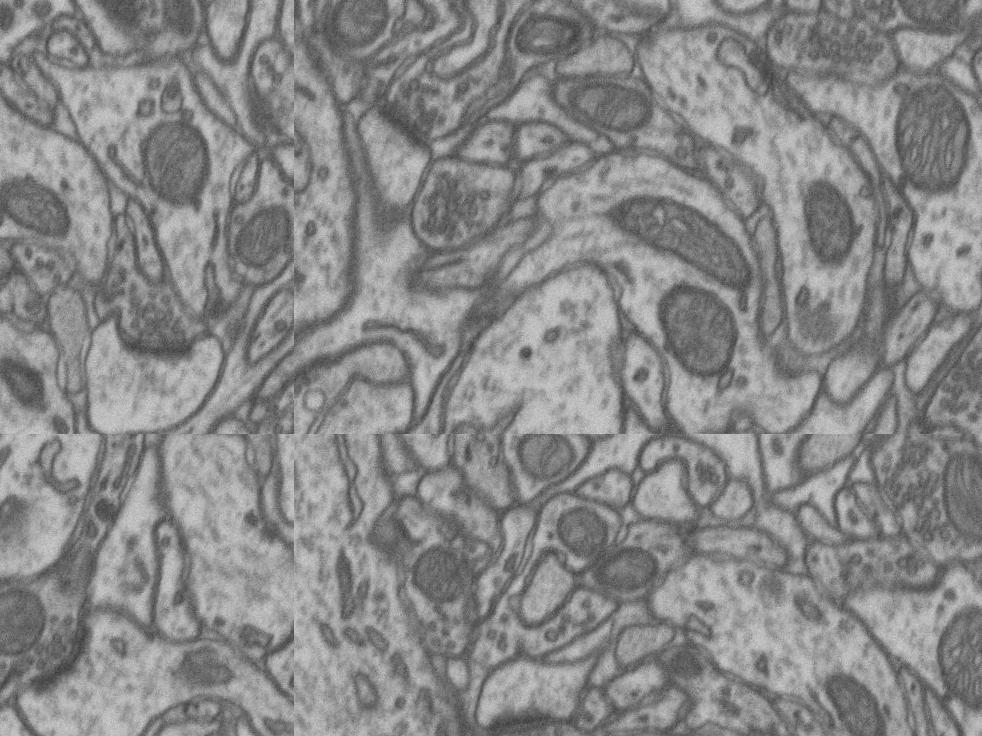mitochondria: (595, 184, 754, 294), (892, 76, 981, 202), (642, 273, 744, 382), (130, 107, 218, 220), (221, 192, 294, 282), (0, 166, 78, 250), (554, 71, 652, 136), (931, 594, 982, 717), (799, 177, 862, 274), (818, 667, 896, 736), (935, 446, 982, 551), (317, 0, 401, 58), (0, 580, 53, 665), (406, 538, 470, 608), (0, 347, 61, 419), (592, 538, 666, 597), (550, 497, 618, 559), (507, 434, 584, 487), (511, 10, 580, 62), (894, 0, 969, 37), (150, 0, 206, 44)
